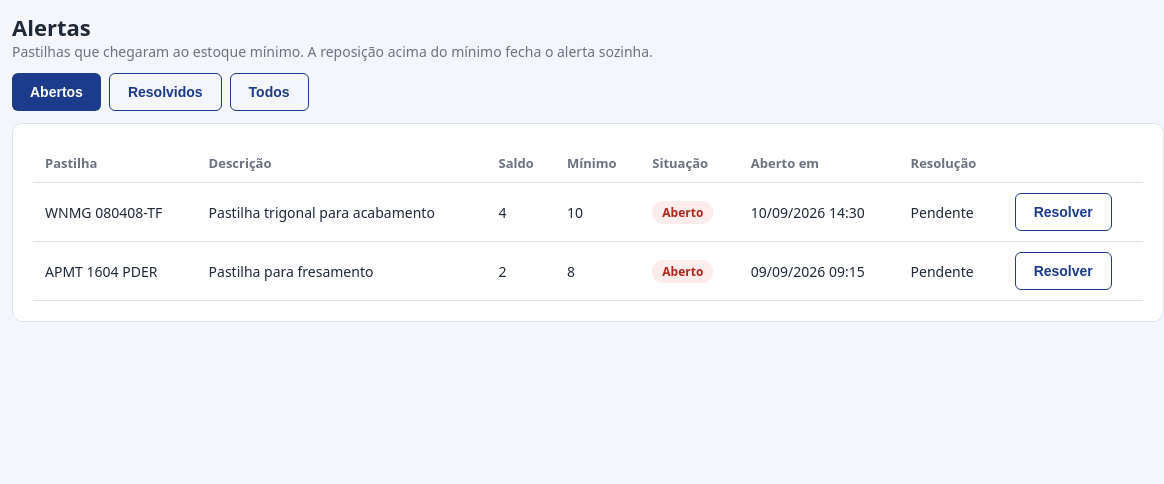
Scenario: página de alertas › cancelar a confirmação não resolve nada
Check: the table named "Alertas de reposição" is shown, box [33,144,1143,301]
Click the button with aria-label "Resolver o alerta de" at (1063, 212), box [1015,193,1112,231]
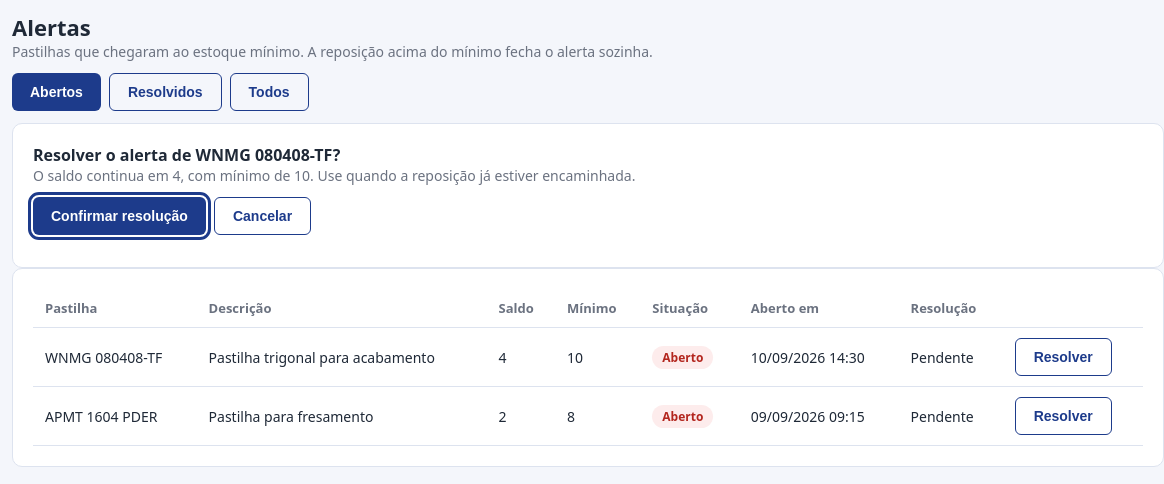
Click the button "Cancelar" at (262, 216), box [214,197,311,235]
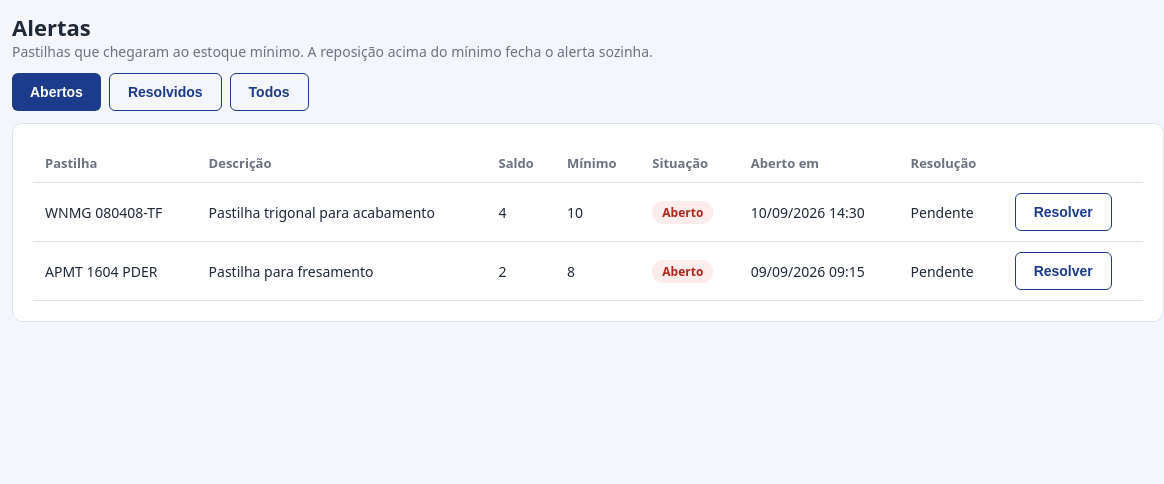
Check: the button "Confirmar resolução" is gone
